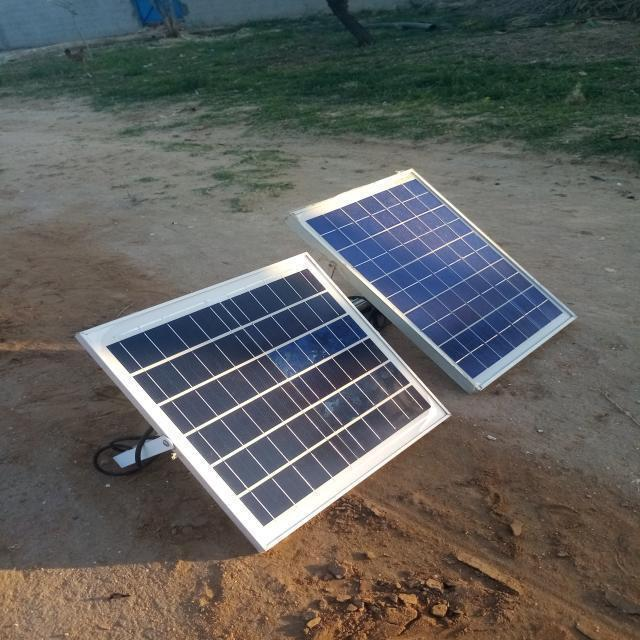Normal Solar Panel: (82, 257, 451, 549), (291, 168, 578, 388)
